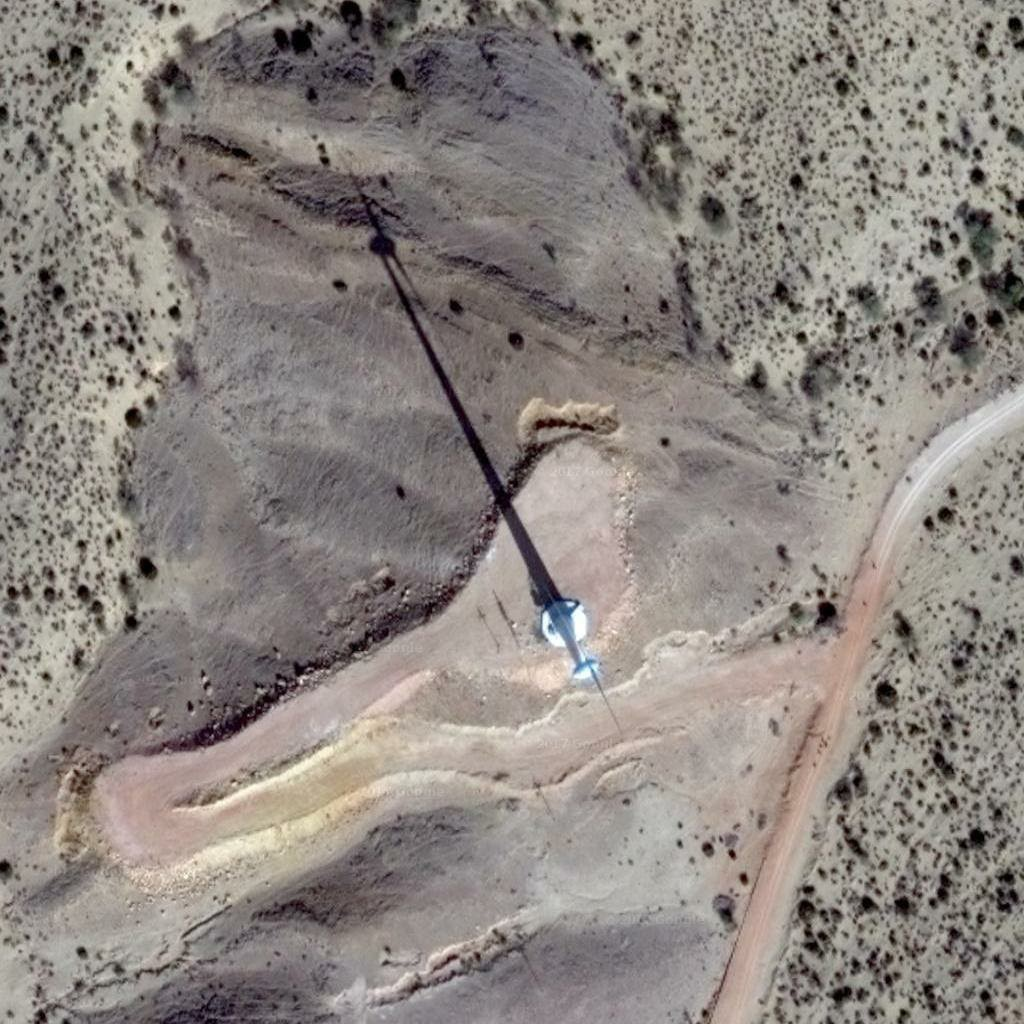Windmill: (328, 147, 570, 607)
